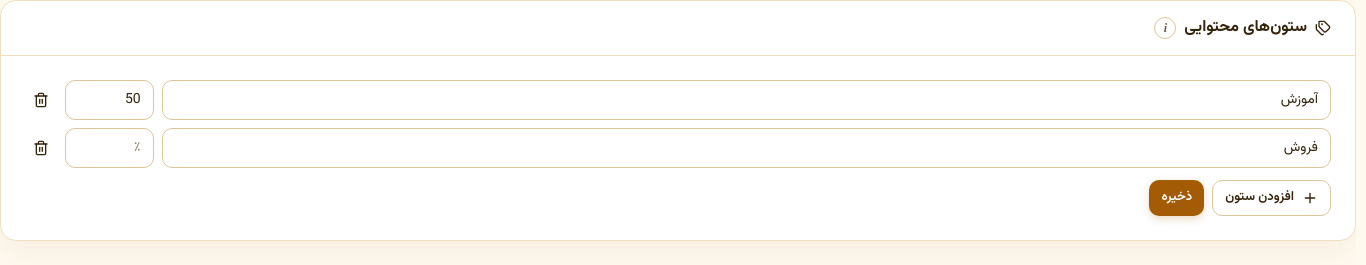
Test: PillarsCard › will not save targets above 100 together
In the number field named "سهم هدف (٪)": (109, 148) [65,128,154,168], type "70"
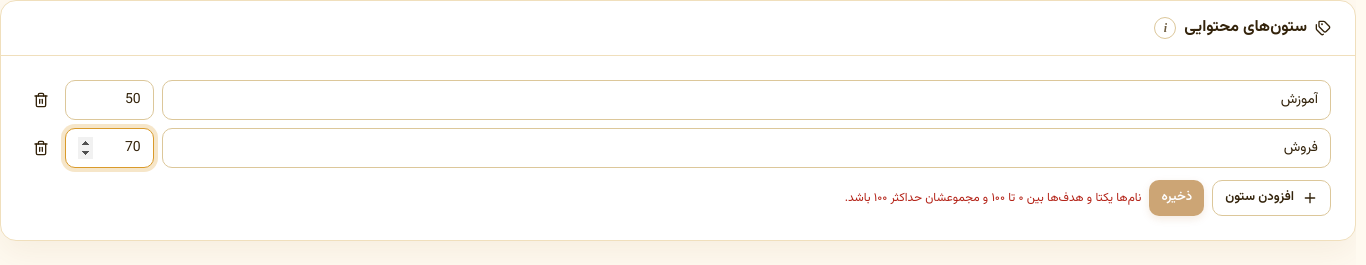
Expected: the button "ذخیره" is disabled, [1149,180,1204,216]
Expected: the text "نام‌ها یکتا و هدف‌ها بین ۰ تا ۱۰۰ و مجموعشان حداکثر ۱۰۰ باشد." is shown, [845,190,1142,206]
